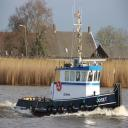tugboat: (14, 55, 124, 120)
